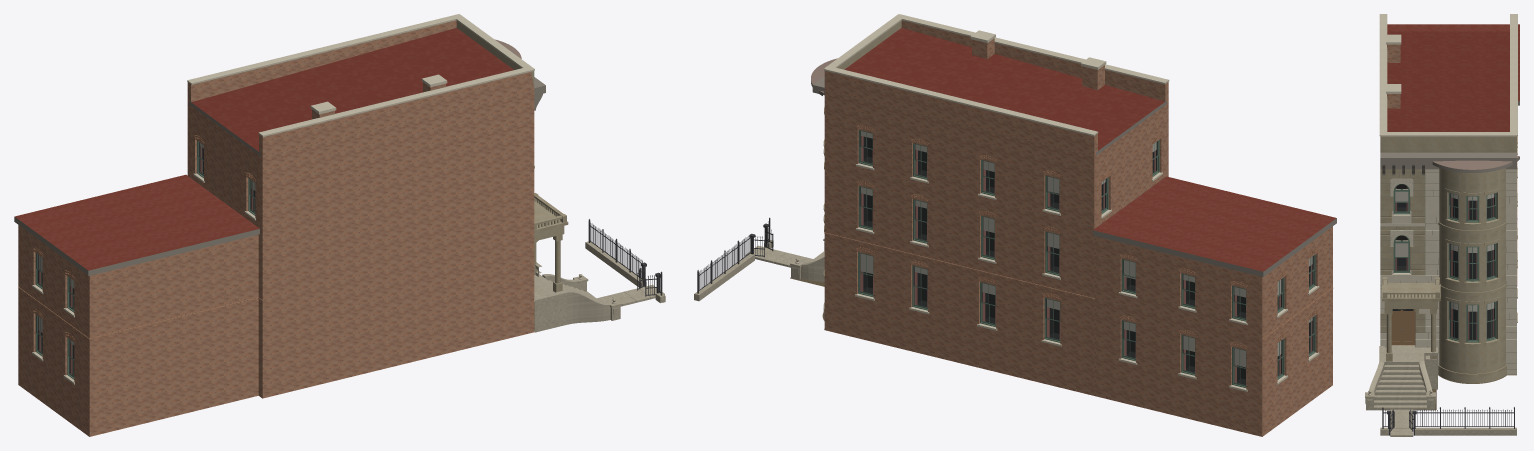
File: stone_house_2035_prairie__as_mapped_1904.glb
3 views of the same model, side by side, from view 1: azimuth 30°, elevation 25°; view 2: azimuth 150°, elevation 25°; view 3: azimuth 270°, elevation 25° (orthographic). The views are drawn at different scales.
Parts seen in each view (by area): view 1: stone_house_2035_prairie__as_mapped_1904; view 2: stone_house_2035_prairie__as_mapped_1904; view 3: stone_house_2035_prairie__as_mapped_1904.
Boxes of the visible parts, x1,y1,x2,y2 form: stone_house_2035_prairie__as_mapped_1904: [14, 14, 665, 436]; stone_house_2035_prairie__as_mapped_1904: [694, 14, 1336, 436]; stone_house_2035_prairie__as_mapped_1904: [1365, 14, 1519, 436].
Size of the model in its own units: 33.94 by 15.24 by 8.59.
Materials: 24 (13 with a texture image).
